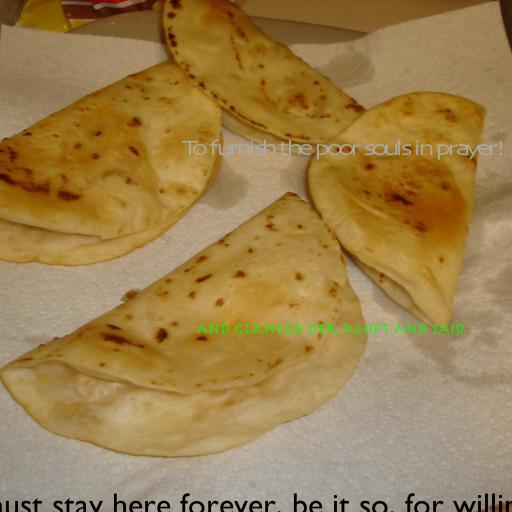Gill Sans: (0, 493, 512, 512)
Herculanum: (197, 322, 465, 335)
Skia: (182, 139, 506, 160)
